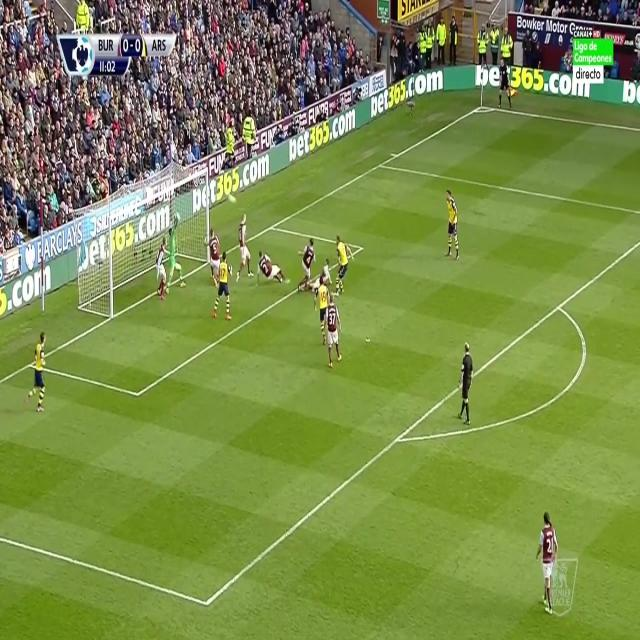Ball: (227, 192, 235, 205)
Goalkeeper: (166, 211, 187, 292)
Player: (535, 508, 559, 616), (21, 330, 47, 416), (324, 292, 345, 370), (211, 254, 234, 325), (330, 234, 355, 298), (255, 249, 292, 288), (236, 211, 256, 283), (443, 189, 462, 262), (295, 235, 318, 292), (314, 276, 329, 344), (204, 226, 221, 282), (153, 237, 168, 300), (307, 257, 334, 292)
Referee: (457, 341, 475, 427), (497, 59, 513, 113)
